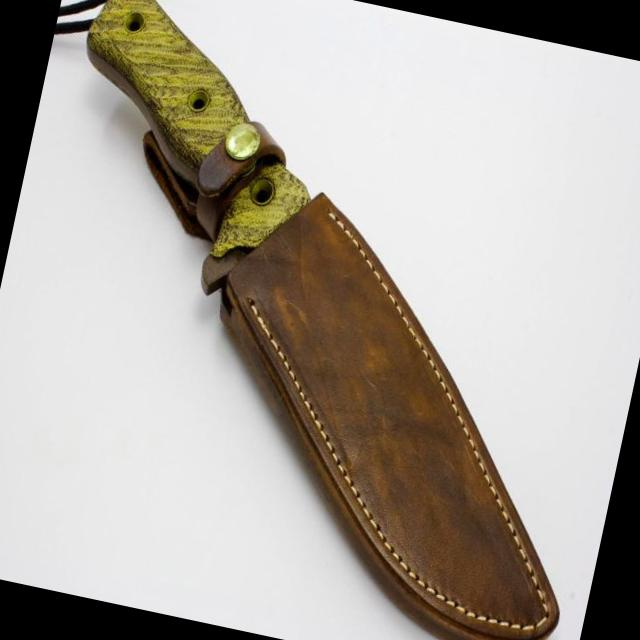Knife: (54, 0, 556, 640)
